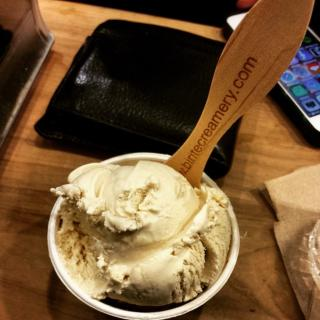Ice cream: (47, 162, 231, 310)
